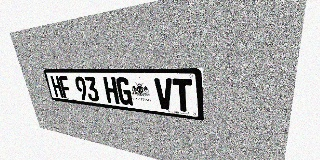3: (84, 76, 100, 102)
9: (74, 76, 89, 101)
F: (58, 76, 72, 99)
G: (115, 77, 133, 106)
H: (103, 77, 120, 104), (50, 76, 64, 98)
T: (172, 78, 193, 113)
V: (154, 78, 174, 110)
